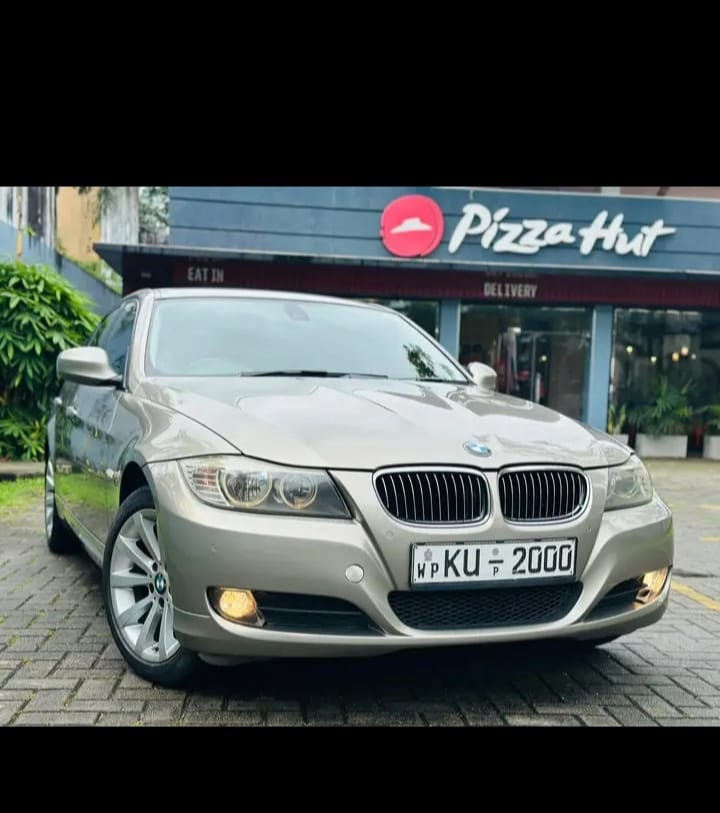number_plate: (411, 546, 573, 580)
